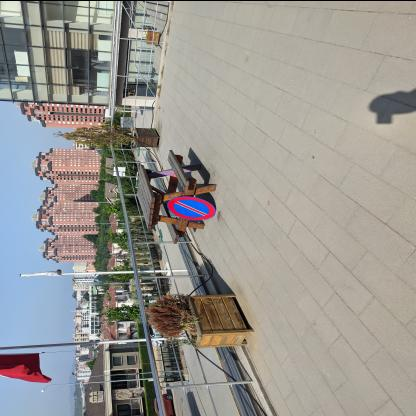No Waiting: (169, 197, 217, 221)
